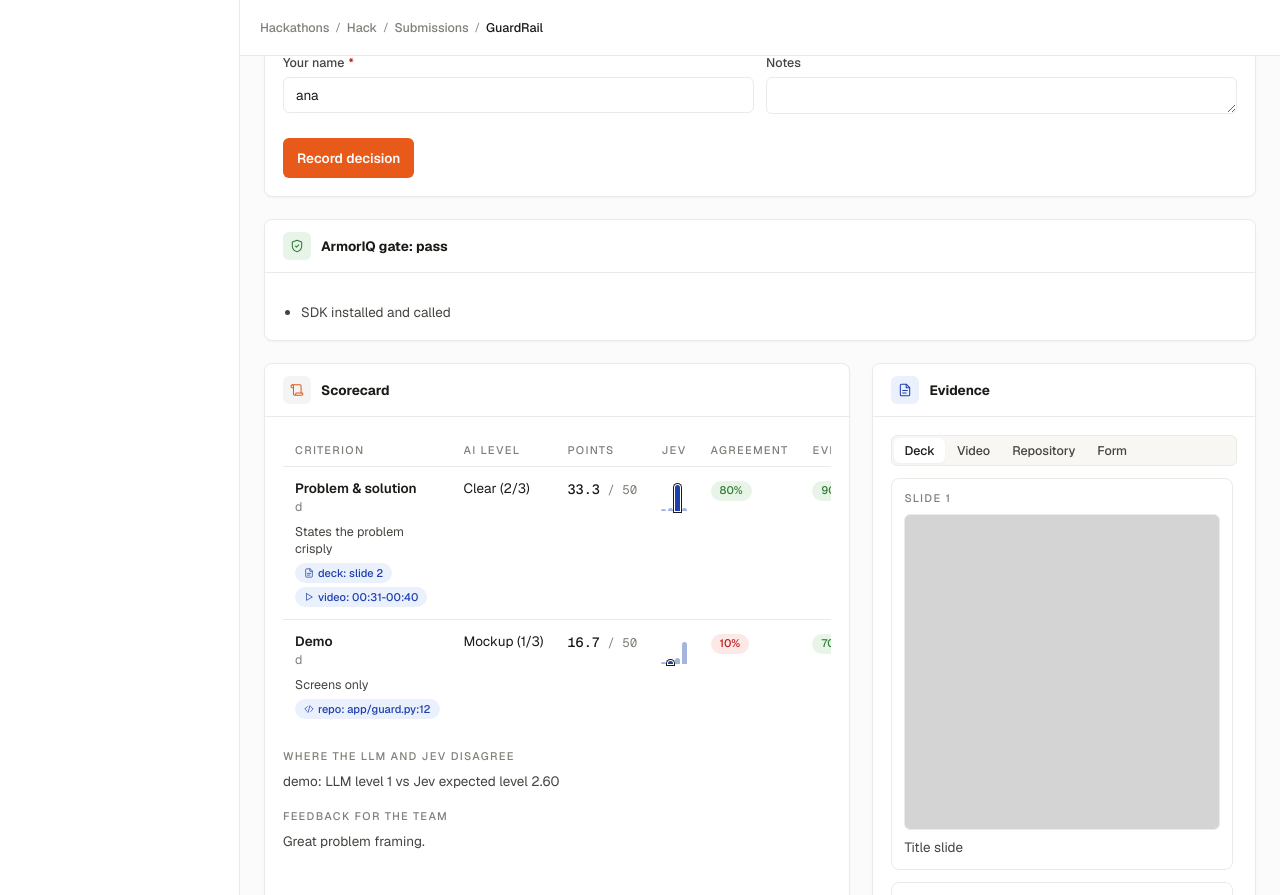
form evidence and YouTube videos › shows the form answers, the live demo check, and the link the model watched
(page scrolled)
Click the radio button labelled "Video" at (974, 450), box [947, 438, 1000, 463]
(page scrolled)
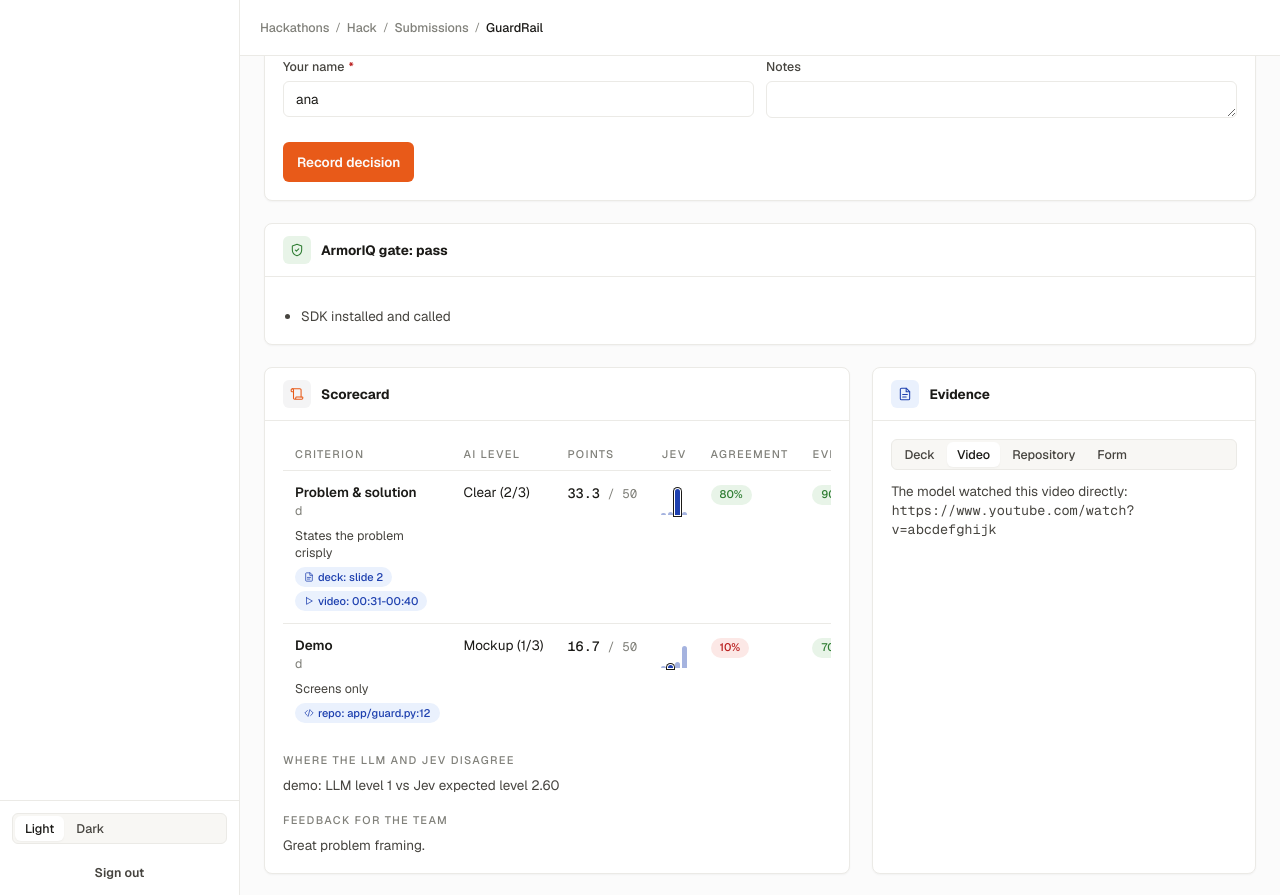
Result: the link "https://www.youtube.com/watch?v=abcdefghijk" is shown at [891, 501, 1134, 538]
Click the radio button labelled "Form" at (1112, 454), box [1087, 442, 1137, 467]
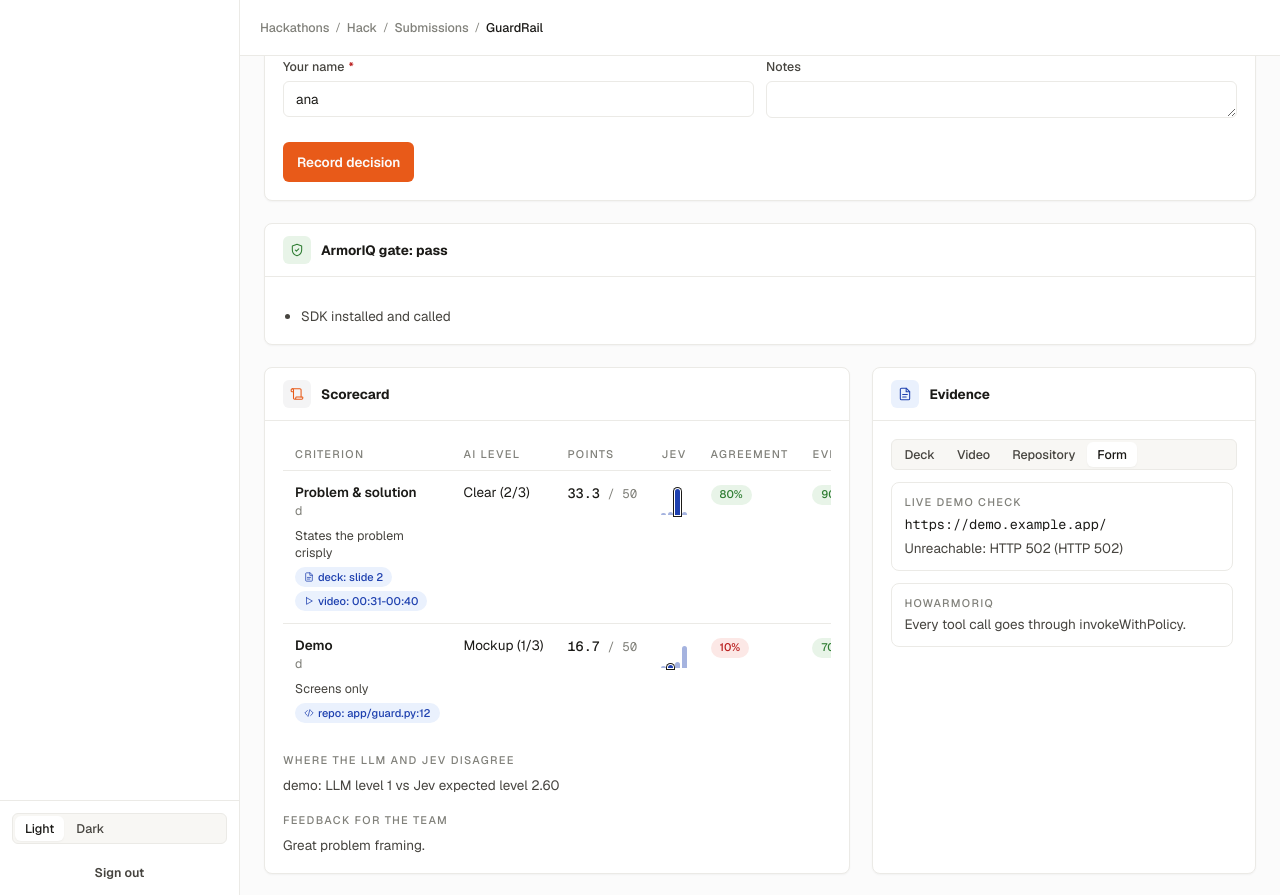
Result: the text "Every tool call goes through invokeWithPolicy." is shown at [904, 615, 1220, 634]
Result: the text "Unreachable: HTTP 502 (HTTP 502)" is shown at [904, 539, 1123, 557]
